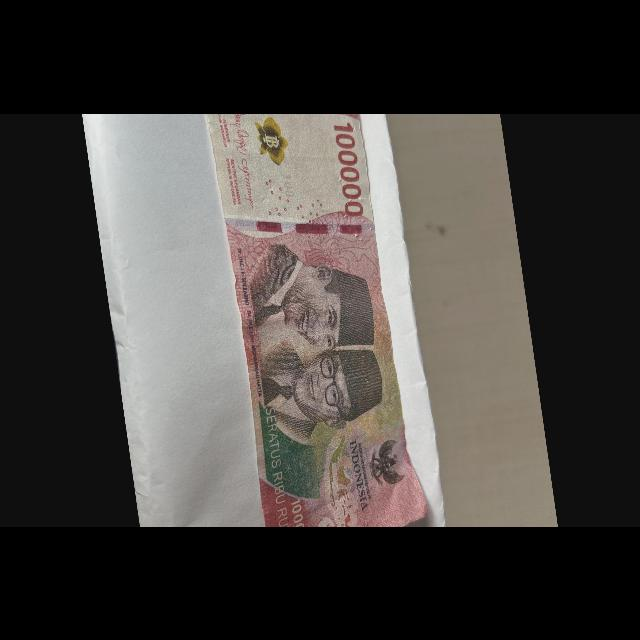Palsu-100k: (192, 87, 433, 556)
Tinta-Palsu-100k: (252, 113, 292, 169)
